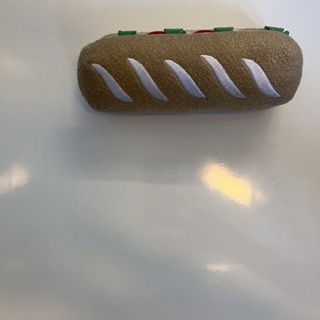sandwich: (78, 27, 303, 108)
